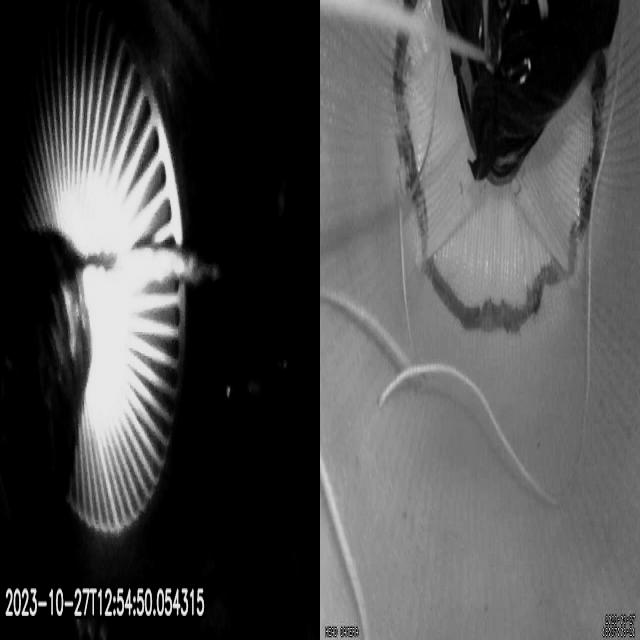red-circle: (392, 0, 609, 333)
